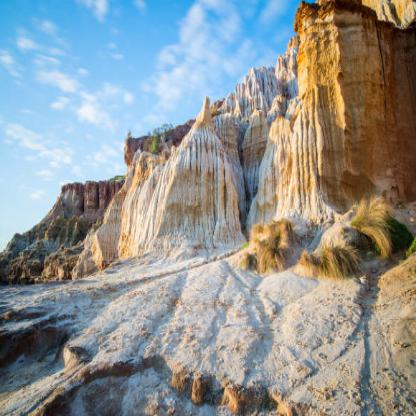Sedimentary_Sandstone: (296, 0, 416, 193), (161, 96, 244, 237), (235, 78, 300, 218), (113, 153, 156, 257)
